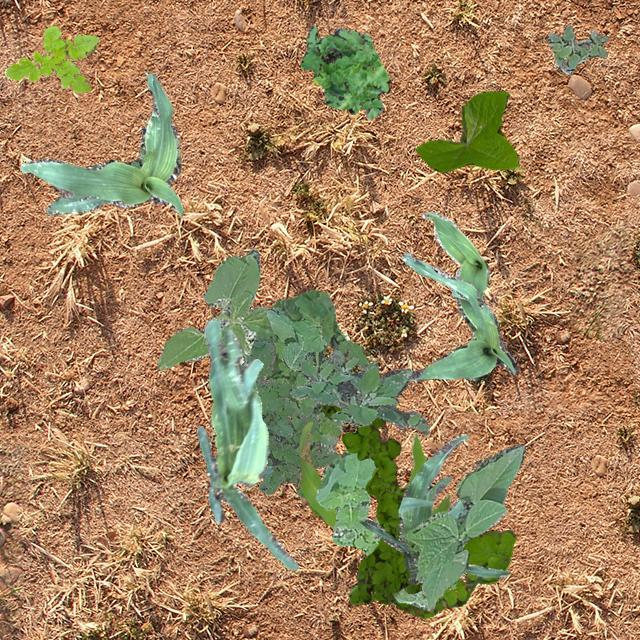crop: (195, 320, 298, 568), (19, 72, 182, 216), (360, 432, 510, 576), (404, 443, 524, 610), (298, 420, 450, 528), (401, 252, 518, 381), (156, 248, 268, 368), (414, 90, 518, 172), (422, 212, 488, 300)
weed: (322, 404, 420, 602), (252, 290, 368, 452), (314, 448, 426, 608), (348, 528, 514, 618), (245, 340, 338, 498), (288, 349, 428, 434), (298, 24, 389, 118), (3, 24, 98, 92), (266, 308, 328, 400), (546, 23, 606, 72)
